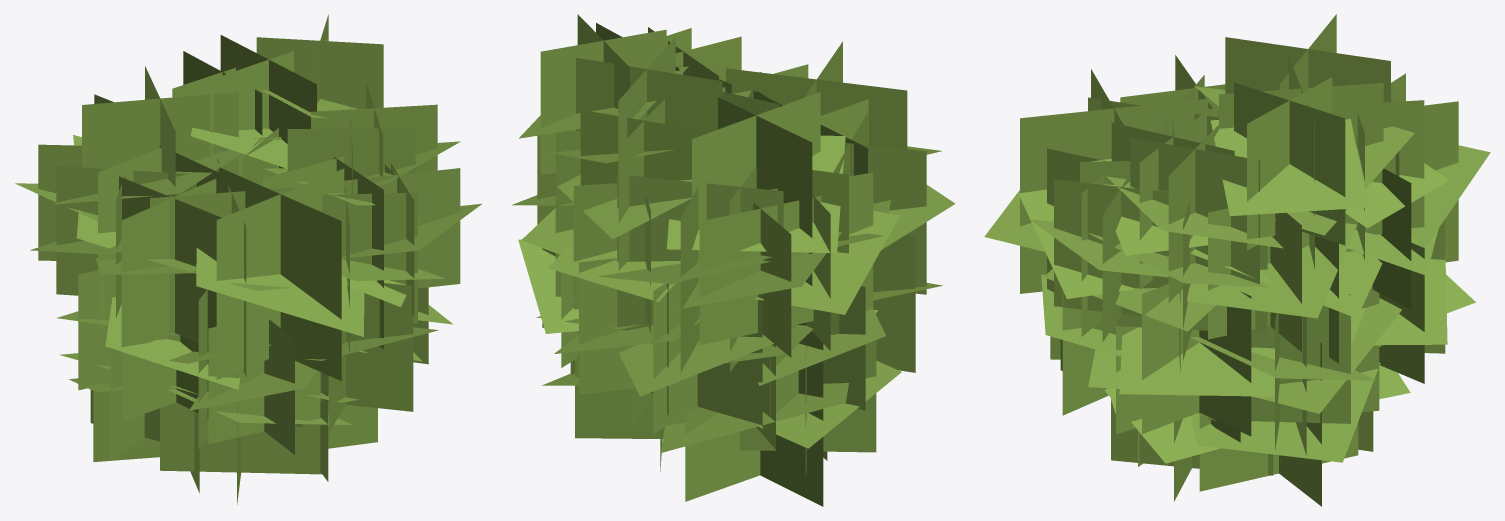
File: noisetier_loin.glb
3 renders of one model, left to right at view 1: azimuth 30°, elevation 25°; view 2: azimuth 150°, elevation 25°; view 3: azimuth 270°, elevation 25°, orthographic. The views are drawn at different scales.
Parts seen in each view (by area): view 1: Noisetier_Leger_Loin; view 2: Noisetier_Leger_Loin; view 3: Noisetier_Leger_Loin.
Part boxes in pixels (x1,y1,x2,y2): Noisetier_Leger_Loin: (15, 14, 481, 504); Noisetier_Leger_Loin: (512, 14, 955, 506); Noisetier_Leger_Loin: (984, 14, 1490, 506).
Bounding box in the file's own units: 5.39 × 5.33 × 5.93.
